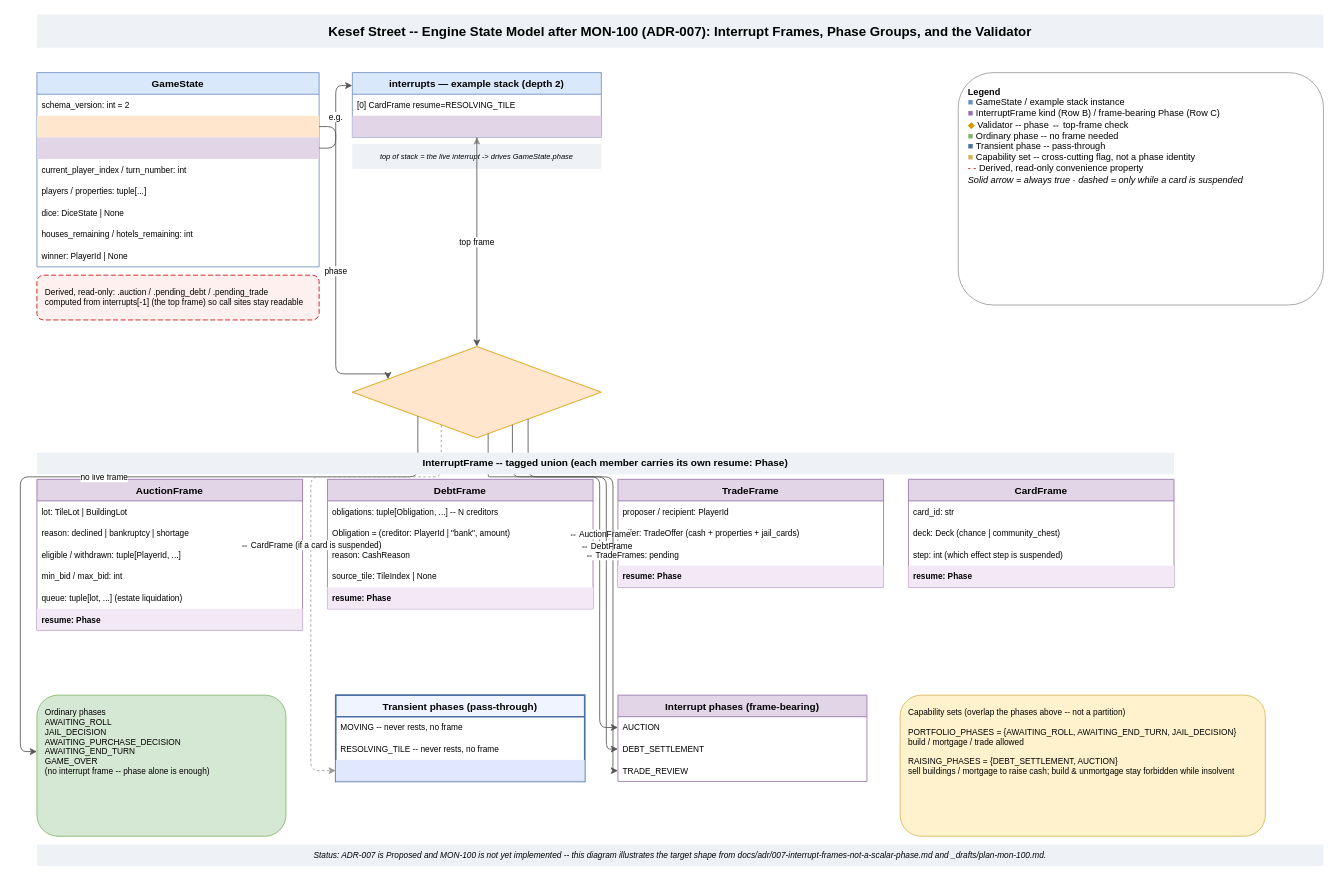
This 1338x880 diagram has some shape labels left out. The centre of each missing label's shape, as x and y in pixels:
"[1] DebtFrame resume=CARD_RESOLUTION ▲ TOP" belongs at point (476, 126).
"CARD_RESOLUTION -- resume target of a live CardFrame" belongs at point (459, 770).
"interrupts: tuple[InterruptFrame, ...]" belongs at point (178, 148).
"phase: Phase" belongs at point (178, 126).
"Validator phase ⇔ top-frame kind (no frame ⇒ ordinary / transient phase)" belongs at point (476, 392).
